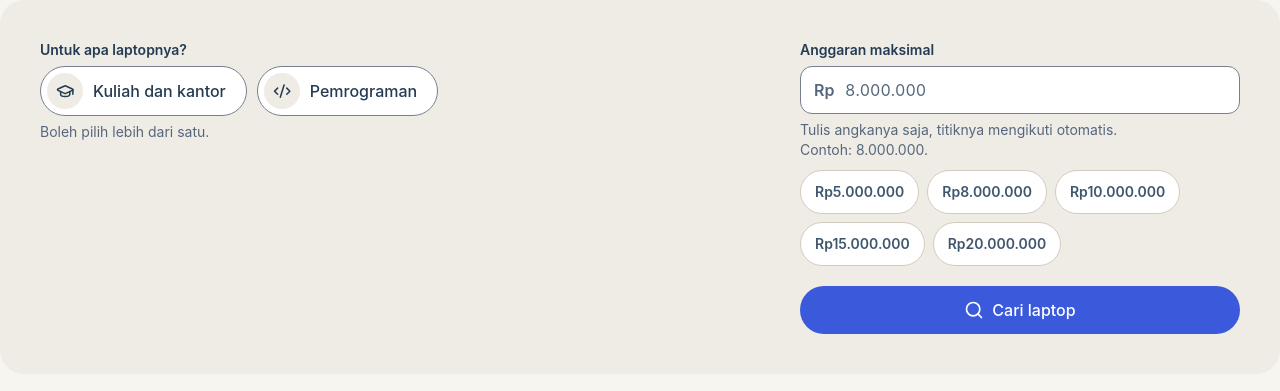
Test: QuickConsult › drops the message as soon as a need is picked
Submit the form named "Temukan laptop cepat"
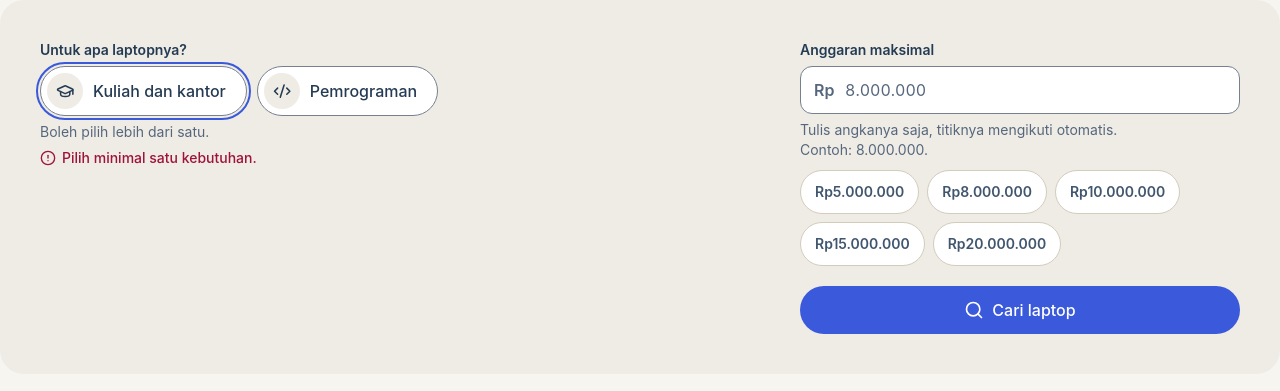
Check: the message "Pilih minimal satu kebutuhan." is shown, box [40,149,257,166]
Click the checkbox labelled "Pemrograman" at (348, 91), box [257,66,438,116]
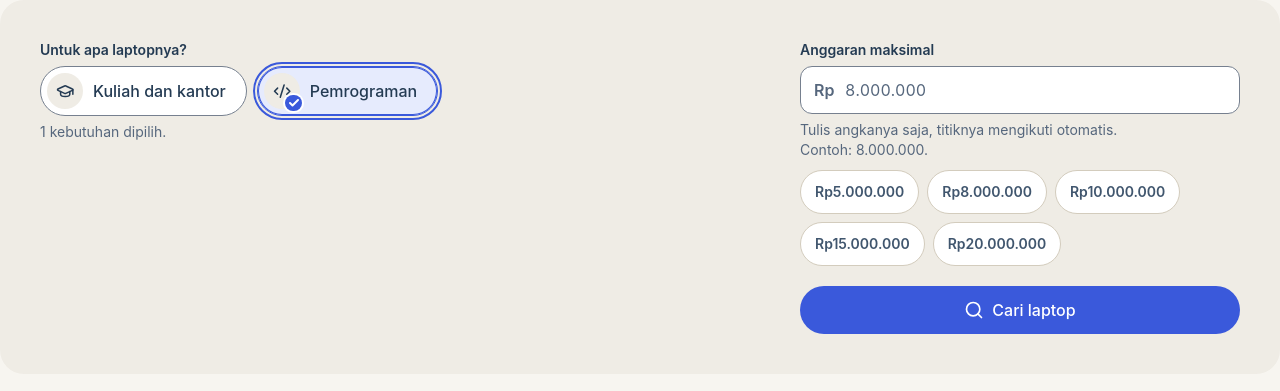
Check: the message "Pilih minimal satu kebutuhan." is gone
